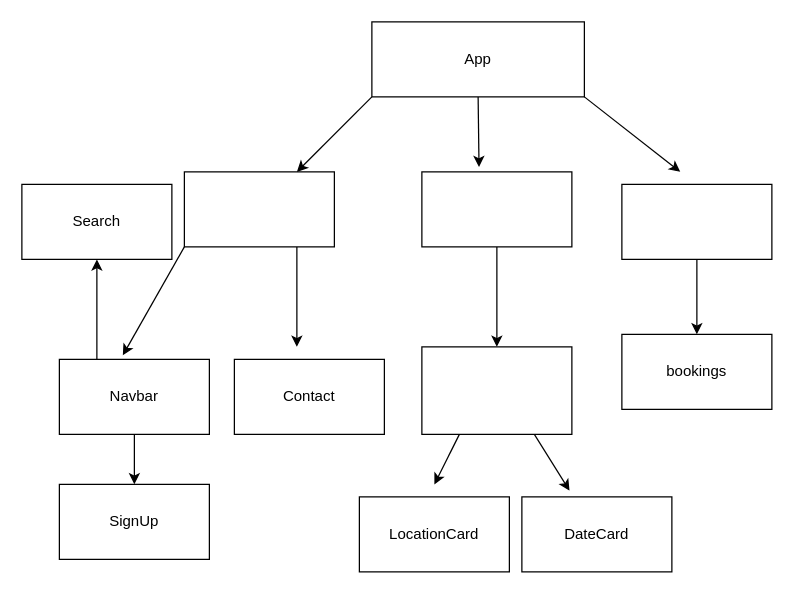
The diagram is 794 pixels wide and 594 high, and some of its shapes have lost their labels. Here are the shapes that lost their labels. From the top down, the centre of each, then its label:
At point (258, 209): "Welcome".
At point (496, 209): "JetListinds".
At point (696, 221): "Profile".
At point (496, 390): "BookingCard".
